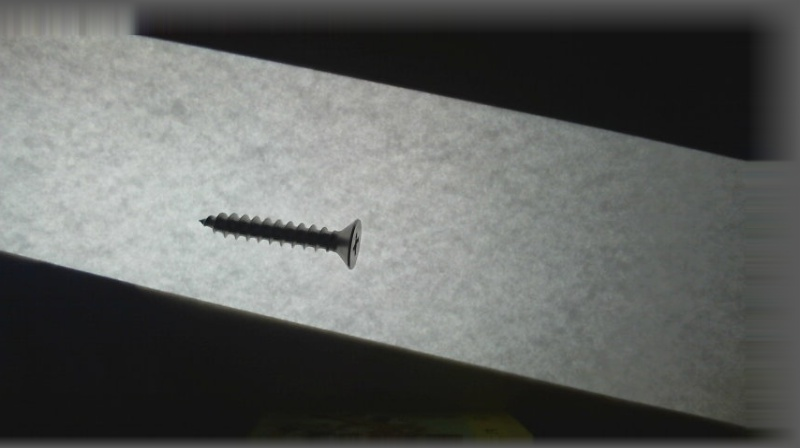S001: (196, 209, 367, 271)
